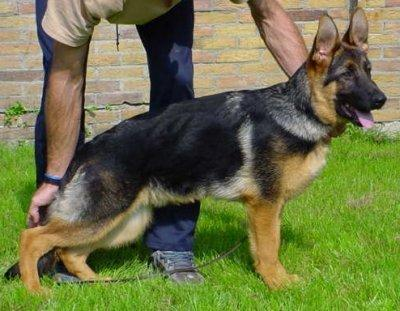German_shepherd: (5, 6, 387, 297)
